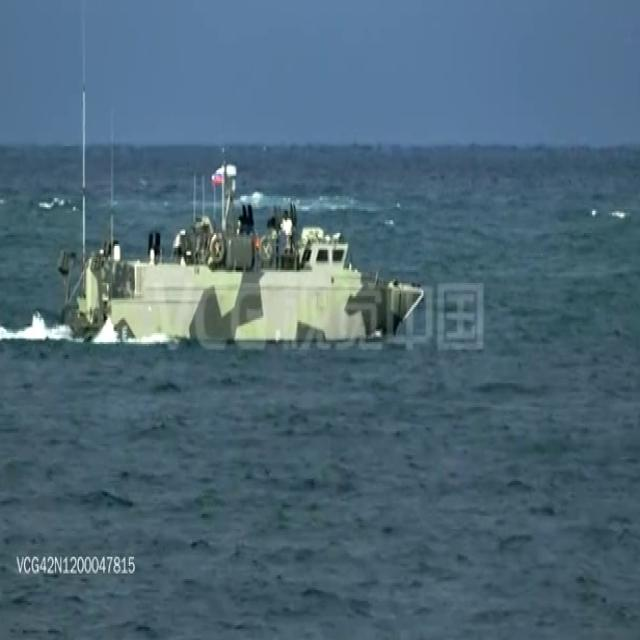houseboat: (58, 175, 417, 345)
